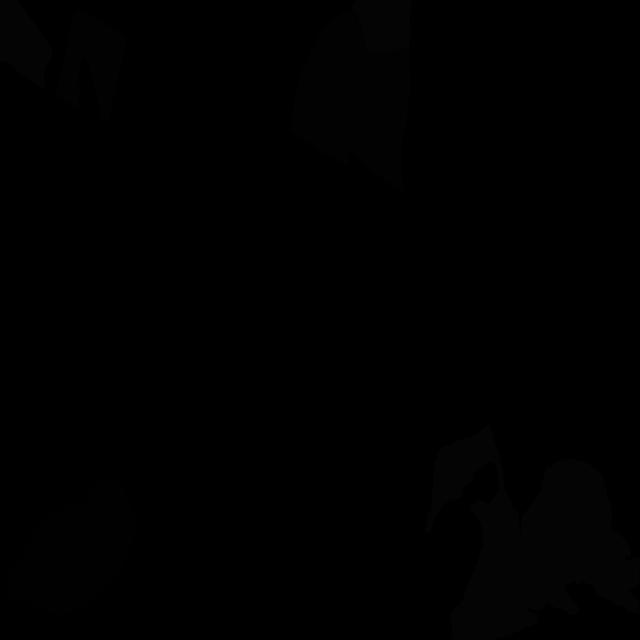cardboard: (291, 9, 411, 192), (56, 10, 126, 124)
rigid_plastic: (5, 479, 136, 615)
soft_plastic: (424, 423, 538, 640), (520, 458, 640, 615), (352, 0, 412, 55)
